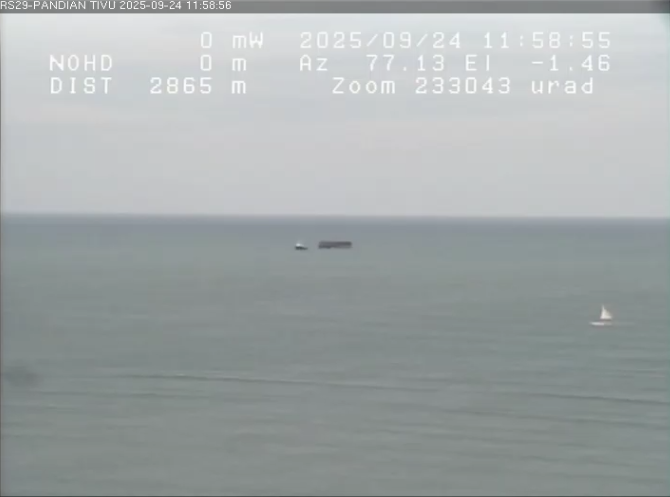BARGE: (313, 237, 364, 251)
OFFSHORE_SUPPLY_VESSEL: (288, 235, 305, 255)
SAIL_BOAT: (585, 302, 624, 328)
TOWING: (267, 210, 395, 272)
